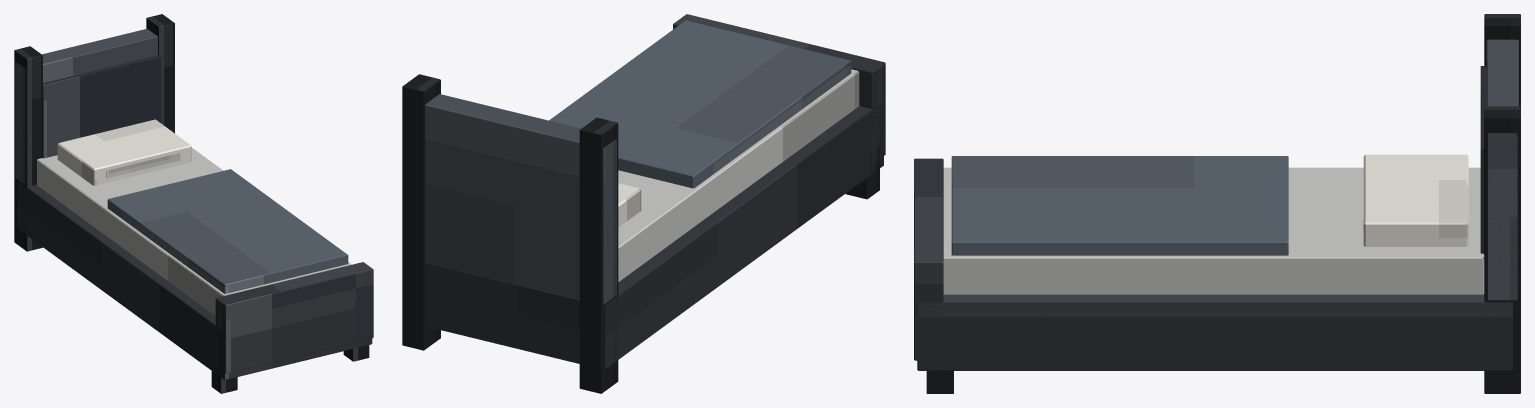
The model's file is single_bed_charcoal.glb.
3 renders of one model, left to right at view 1: azimuth 30°, elevation 25°; view 2: azimuth 150°, elevation 25°; view 3: azimuth 270°, elevation 25°, orthographic. The views are drawn at different scales.
Parts seen in each view (by area): view 1: Blanket, BedFrame, Footboard, Mattress, HeadboardInset, Pillow_1, HeadboardPanel, HeadPostL, HeadPostR, PillowBand_1, FootL, FootR; view 2: BedFrame, HeadboardPanel, Blanket, Mattress, HeadPostL, HeadPostR, Footboard, Pillow_1, FootL; view 3: BedFrame, Blanket, Mattress, Pillow_1, HeadboardPanel, Footboard, HeadPostR, HeadPostL, HeadboardInset, FootR.
Part boxes in pixels (box(x1,y1,x2,y2)): Blanket: box(107, 169, 348, 293); BedFrame: box(17, 181, 372, 379); Footboard: box(215, 262, 373, 373); Mattress: box(37, 148, 351, 315); HeadboardInset: box(42, 55, 161, 158); Pillow_1: box(57, 119, 191, 185); HeadboardPanel: box(15, 29, 157, 185); HeadPostL: box(14, 46, 42, 251); HeadPostR: box(146, 14, 174, 133); PillowBand_1: box(106, 152, 180, 178); FootL: box(211, 362, 237, 393); FootR: box(343, 345, 369, 361); BedFrame: box(427, 102, 883, 368); HeadboardPanel: box(425, 94, 616, 304); Blanket: box(549, 20, 851, 188); Mattress: box(618, 69, 859, 281); HeadPostL: box(579, 117, 618, 393); HeadPostR: box(402, 74, 440, 350); Footboard: box(673, 14, 885, 163); Pillow_1: box(618, 183, 641, 227); FootL: box(845, 145, 879, 199); BedFrame: box(917, 257, 1512, 370); Blanket: box(951, 156, 1288, 255); Mattress: box(942, 167, 1484, 294); Pillow_1: box(1363, 154, 1468, 246); HeadboardPanel: box(1486, 39, 1518, 300); Footboard: box(914, 158, 943, 360); HeadPostR: box(1484, 106, 1520, 393); HeadPostL: box(1484, 14, 1520, 106); HeadboardInset: box(1480, 66, 1486, 254); FootR: box(926, 362, 953, 393).
Size of the model in its own units: 1.08 by 1.34 by 2.66.
Materials: 1 (1 with a texture image).
